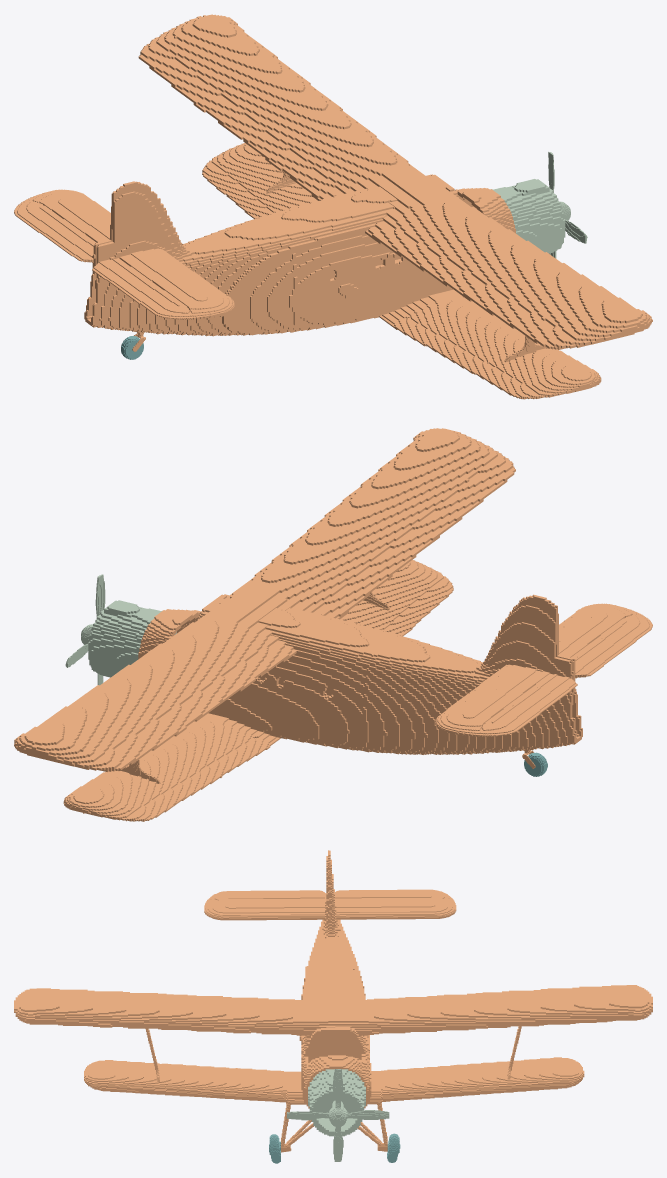
3 views of the same model, one above another, from view 1: azimuth 30°, elevation 25°; view 2: azimuth 150°, elevation 25°; view 3: azimuth 270°, elevation 25° (orthographic). The views are drawn at different scales.
Visible parts, largest first — view 1: Node10, Node5, Node1, Node4, Node2, Node6, Node3, Node7; view 2: Node5, Node10, Node4, Node2, Node1, Node6, Node3, Node7; view 3: Node10, Node5, Node3, Node4, Node2, Node6, Node1, Node7, Node8.
Part boxes in pixels (x1=…): Node10: x1=85, y1=14, x2=651, y2=396; Node5: x1=141, y1=18, x2=652, y2=392; Node1: x1=86, y1=145, x2=600, y2=399; Node4: x1=26, y1=174, x2=515, y2=336; Node2: x1=14, y1=175, x2=513, y2=351; Node6: x1=202, y1=146, x2=601, y2=399; Node3: x1=202, y1=143, x2=601, y2=399; Node7: x1=491, y1=151, x2=587, y2=258; Node5: x1=14, y1=428, x2=515, y2=819; Node10: x1=14, y1=428, x2=652, y2=817; Node4: x1=138, y1=594, x2=639, y2=754; Node2: x1=146, y1=600, x2=652, y2=768; Node1: x1=64, y1=566, x2=581, y2=821; Node6: x1=64, y1=560, x2=453, y2=821; Node3: x1=63, y1=561, x2=452, y2=821; Node7: x1=65, y1=574, x2=176, y2=685; Node10: x1=14, y1=890, x2=652, y2=1107; Node5: x1=14, y1=952, x2=652, y2=1147; Node3: x1=84, y1=1058, x2=584, y2=1152; Node4: x1=215, y1=850, x2=452, y2=1108; Node2: x1=204, y1=860, x2=456, y2=1108; Node6: x1=84, y1=1057, x2=584, y2=1152; Node1: x1=84, y1=850, x2=584, y2=1151; Node7: x1=287, y1=1069, x2=389, y2=1161; Node8: x1=269, y1=1133, x2=400, y2=1163.
Size of the model in its own units: 12130 by 5900 by 18200.
